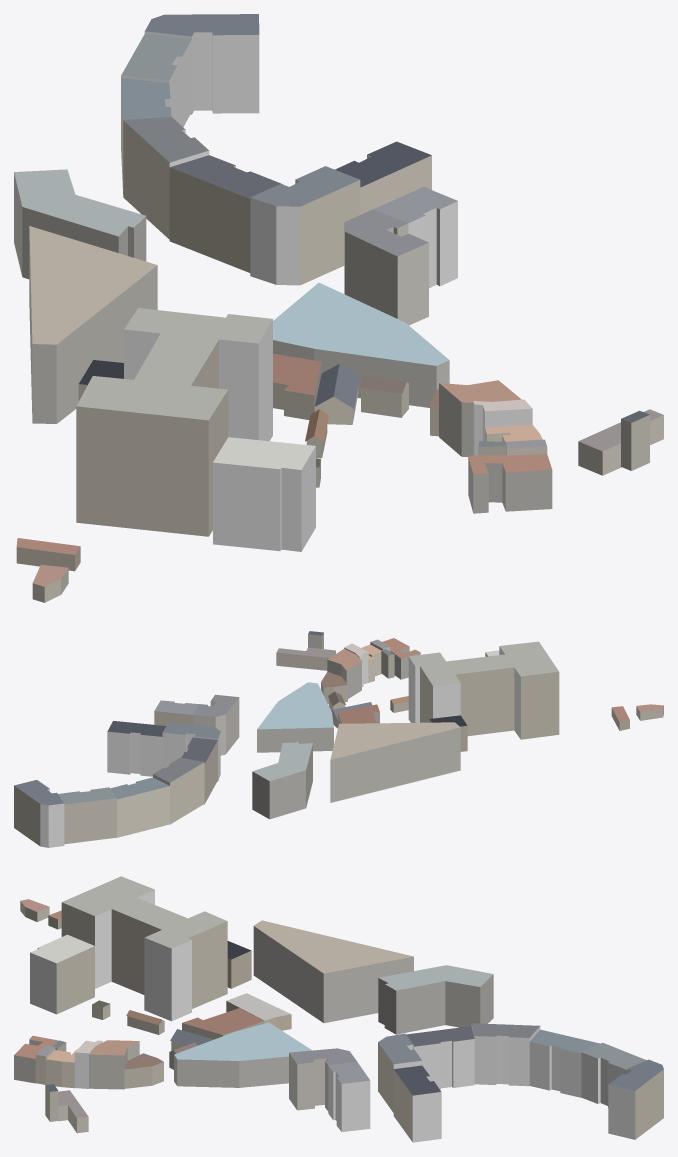
3 views of the same model, one above another, from view 1: azimuth 30°, elevation 25°; view 2: azimuth 150°, elevation 25°; view 3: azimuth 270°, elevation 25° (orthographic). The views are drawn at different scales.
Parts seen in each view (by area): view 1: tuile; view 2: tuile; view 3: tuile.
Part boxes in pixels (<box>): tuile: <box>14,14,663,602</box>; tuile: <box>14,631,663,847</box>; tuile: <box>14,876,663,1142</box>.
Bounding box in the file's own units: 189 × 36.03 × 240.
